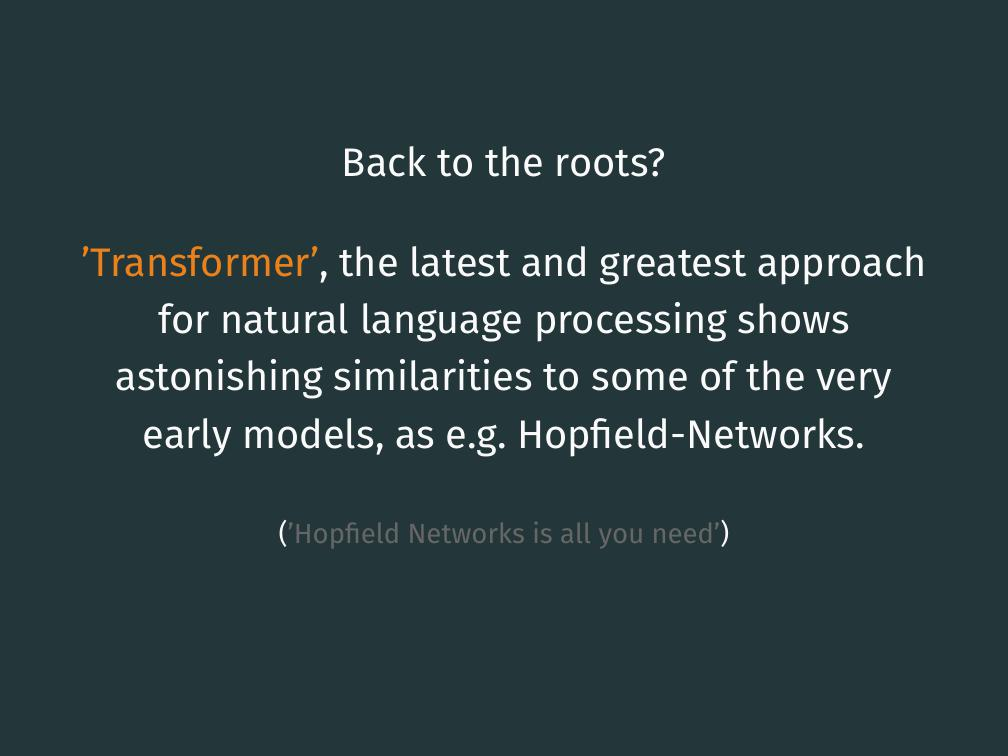Title: (334, 137, 673, 192)
